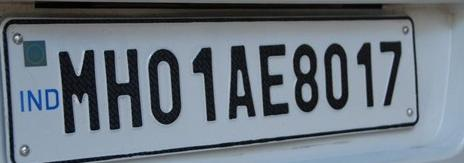0: (146, 47, 186, 126), (322, 40, 352, 110)
1: (190, 45, 223, 122), (355, 39, 378, 109)
7: (378, 38, 404, 107)
8: (292, 44, 323, 113)
A: (226, 44, 259, 120)
E: (256, 41, 292, 116)
H: (102, 46, 146, 132)
M: (57, 45, 103, 134)
